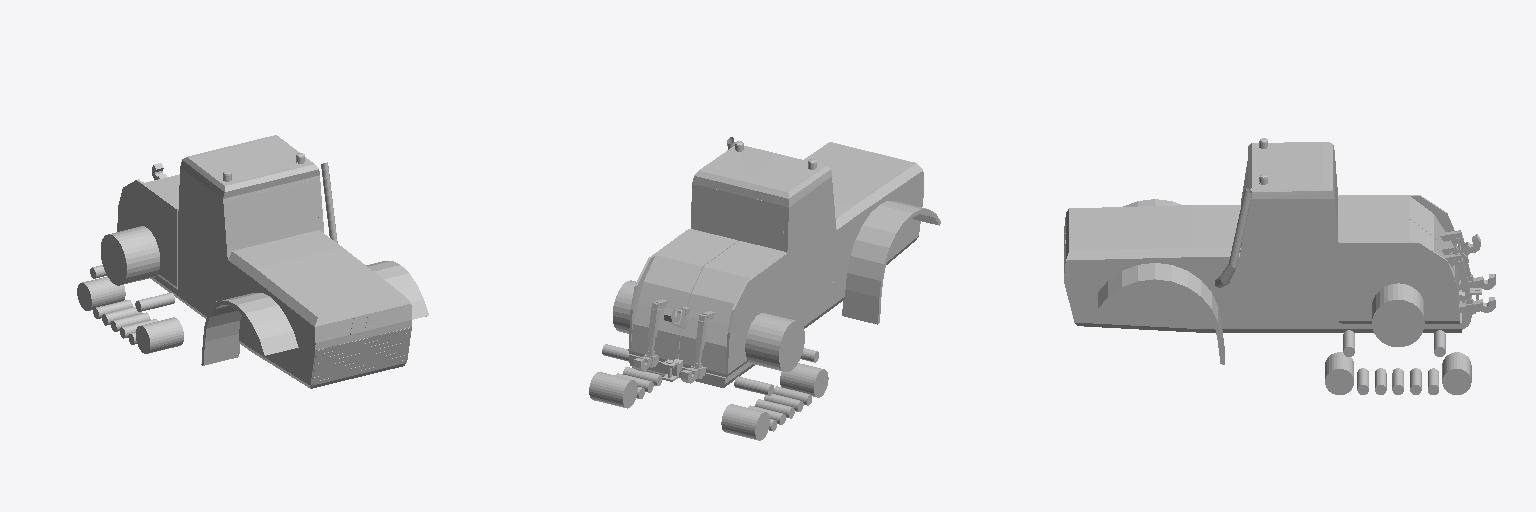
The model's file is randallpheonix.obj.
The picture shows the model from 3 angles: view 1: azimuth 30°, elevation 25°; view 2: azimuth 150°, elevation 25°; view 3: azimuth 270°, elevation 25°; orthographic projection.
Visible parts, largest first — view 1: Cube_Cube.001, frame_1.001_frame_1.003, translucent_4, Cylinder.008_Cylinder.021, translucent_door_1, Cube.008_Cube.004, roller_8, frame_1.002_frame_1.001, roller_0, Cylinder.009_Cylinder.020, roller_6, Cube.010_Cube.011 (+1 smaller); view 2: Cube.008_Cube.004, Cube_Cube.001, Cube.009_Cube.050, Cylinder.008_Cylinder.021, frame_1.001_frame_1.003, translucent_door_1, translucent_5_Mesh, roller_8, roller_6, frame_1.002_frame_1.001, cube.001, roller_0 (+2 smaller); view 3: Cube_Cube.001, Cube.009_Cube.050, translucent_door_2, frame_1.002_frame_1.001, Cube.008_Cube.004, Cylinder.009_Cylinder.020, roller_8, cube.001, frame_1.001_frame_1.003, roller_6, roller_0, Torus.
Boxes of the visible parts, <box> form: Cube_Cube.001: <box>150,230,411,388</box>; frame_1.001_frame_1.003: <box>178,146,271,312</box>; translucent_4: <box>228,180,318,250</box>; Cylinder.008_Cylinder.021: <box>201,293,298,365</box>; translucent_door_1: <box>183,174,224,301</box>; Cube.008_Cube.004: <box>117,174,179,289</box>; roller_8: <box>101,226,159,285</box>; frame_1.002_frame_1.001: <box>232,135,323,232</box>; roller_0: <box>136,317,183,353</box>; Cylinder.009_Cylinder.020: <box>366,261,428,319</box>; roller_6: <box>77,276,125,310</box>; Cube.010_Cube.011: <box>311,327,410,385</box>; Cube.008_Cube.004: <box>679,241,787,377</box>; Cube_Cube.001: <box>629,142,923,387</box>; Cube.009_Cube.050: <box>628,229,737,361</box>; Cylinder.008_Cylinder.021: <box>842,201,940,324</box>; frame_1.001_frame_1.003: <box>741,155,836,322</box>; translucent_door_1: <box>792,182,833,299</box>; translucent_5_Mesh: <box>695,185,783,250</box>; roller_8: <box>613,280,804,371</box>; roller_6: <box>589,372,769,440</box>; frame_1.002_frame_1.001: <box>691,146,780,229</box>; cube.001: <box>634,299,714,383</box>; roller_0: <box>780,363,828,397</box>; Cube_Cube.001: <box>1064,205,1461,332</box>; Cube.009_Cube.050: <box>1338,219,1459,323</box>; translucent_door_2: <box>1245,203,1328,306</box>; frame_1.002_frame_1.001: <box>1239,163,1341,323</box>; Cube.008_Cube.004: <box>1338,195,1459,290</box>; Cylinder.009_Cylinder.020: <box>1098,263,1224,364</box>; roller_8: <box>1372,283,1424,346</box>; cube.001: <box>1440,230,1495,314</box>; frame_1.001_frame_1.003: <box>1241,142,1338,246</box>; roller_6: <box>1442,314,1471,394</box>; roller_0: <box>1325,352,1353,394</box>; Torus: <box>1215,188,1251,287</box>.
Bounding box in the file's own units: 2.75 × 3.12 × 6.19.